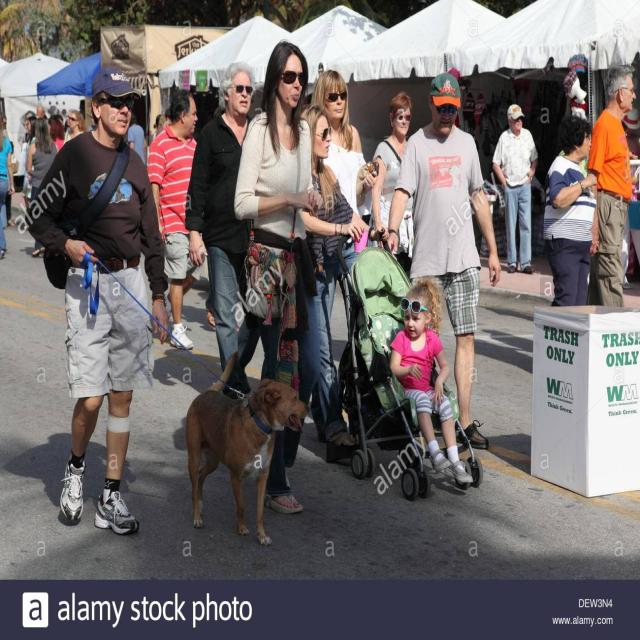body: (20, 62, 172, 541), (230, 33, 326, 519), (384, 68, 503, 460), (184, 61, 279, 402), (299, 103, 374, 467), (310, 68, 382, 431), (387, 272, 476, 486), (146, 90, 206, 352), (585, 62, 638, 308), (542, 115, 600, 308), (490, 101, 540, 277), (371, 90, 415, 284), (26, 117, 59, 257), (0, 112, 16, 260), (0, 113, 17, 231), (22, 114, 39, 209), (126, 111, 147, 165), (64, 108, 87, 144), (24, 102, 60, 119), (150, 108, 165, 140)
